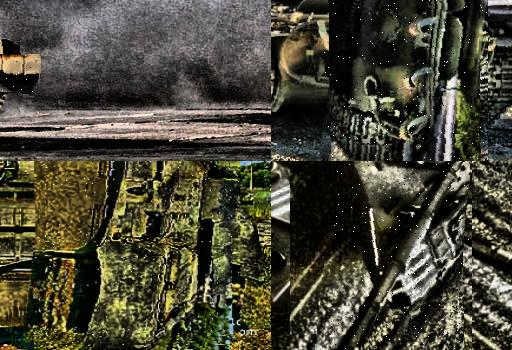tanks: (36, 162, 241, 347), (325, 1, 487, 162), (340, 162, 472, 350), (1, 56, 42, 94)
